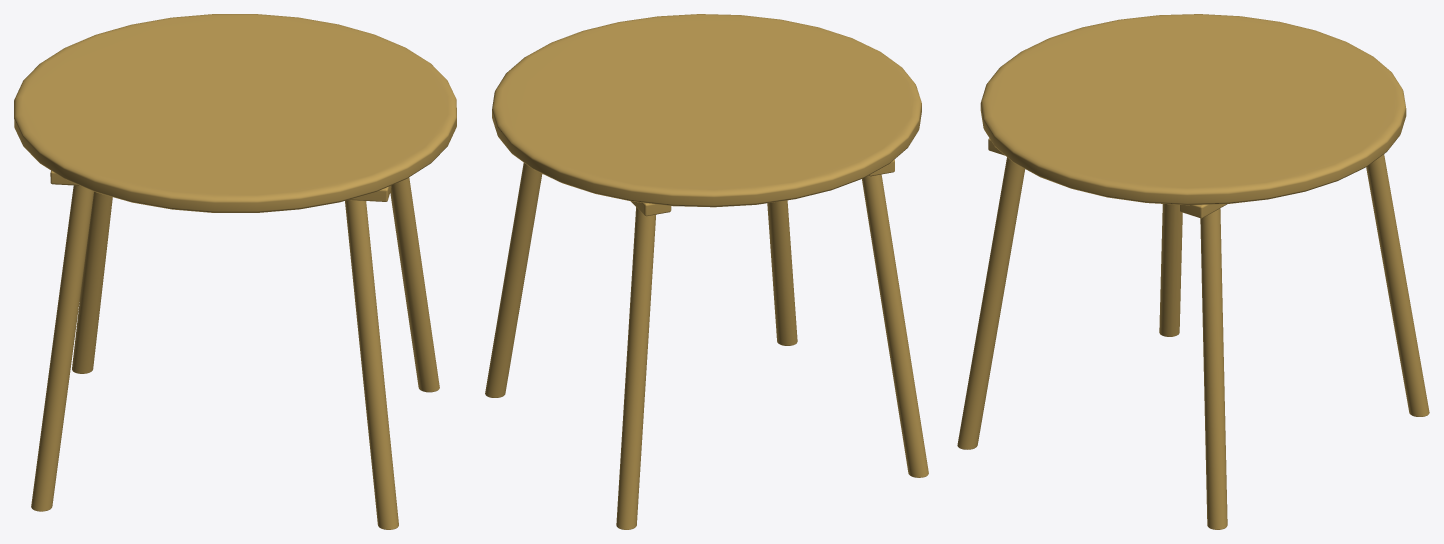
The model's file is table_LOD1.fbx.
3 views of the same model, side by side, from view 1: azimuth 30°, elevation 25°; view 2: azimuth 150°, elevation 25°; view 3: azimuth 270°, elevation 25° (orthographic). The views are drawn at different scales.
Visible parts, largest first — view 1: table; view 2: table; view 3: table.
Boxes of the visible parts, x1,y1,x2,y2 form: table: [14, 14, 456, 529]; table: [485, 14, 928, 529]; table: [957, 14, 1429, 529].
Bounding box in the file's own units: 271 × 206 × 269.
